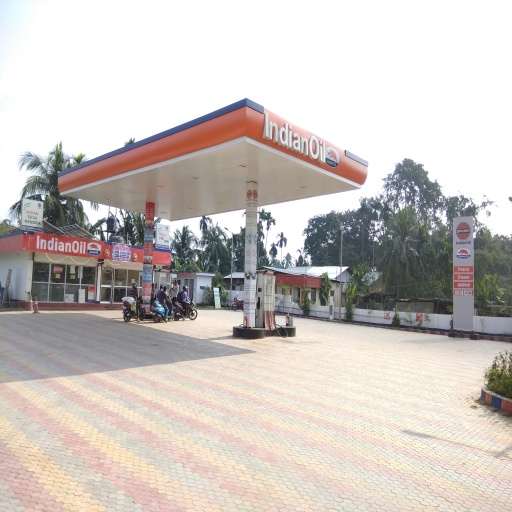roof: (56, 97, 366, 222)
